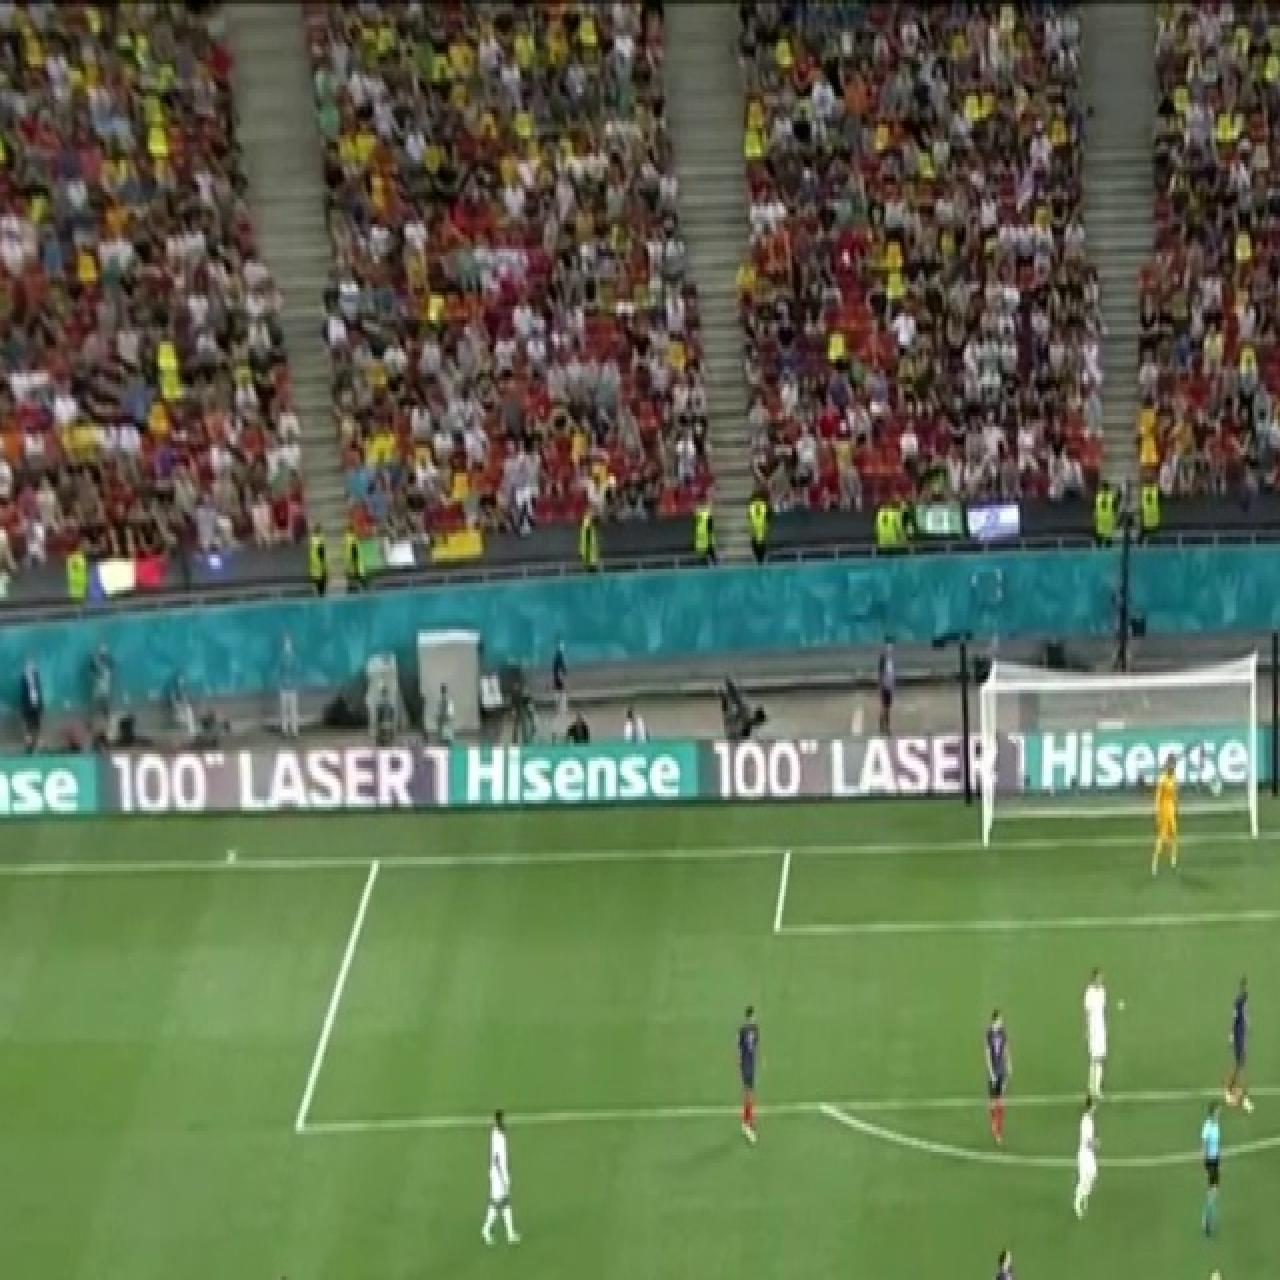football: (478, 1107, 522, 1256), (1220, 974, 1254, 1122), (984, 1006, 1014, 1149), (735, 1004, 763, 1148), (1197, 1097, 1226, 1235), (1069, 1088, 1099, 1220), (1150, 753, 1180, 883), (1081, 966, 1110, 1096), (992, 1241, 1022, 1280), (1192, 1266, 1226, 1280), (264, 1269, 298, 1280)
